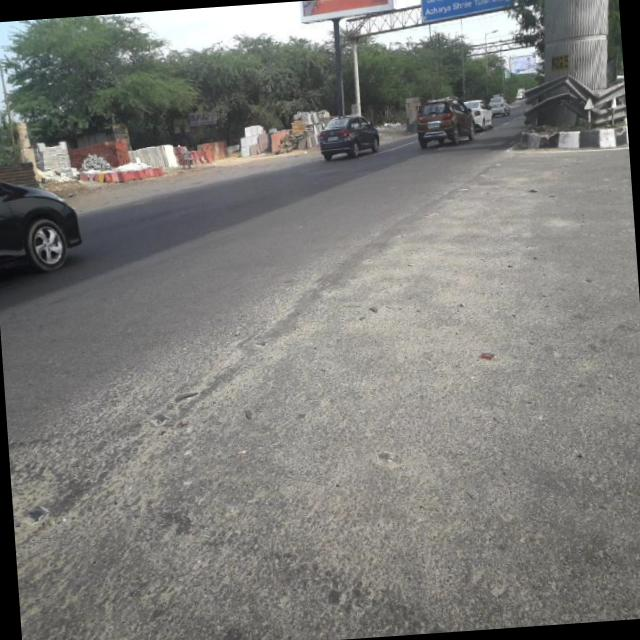crack: (2, 348, 235, 640)
pothole: (8, 450, 66, 544)
